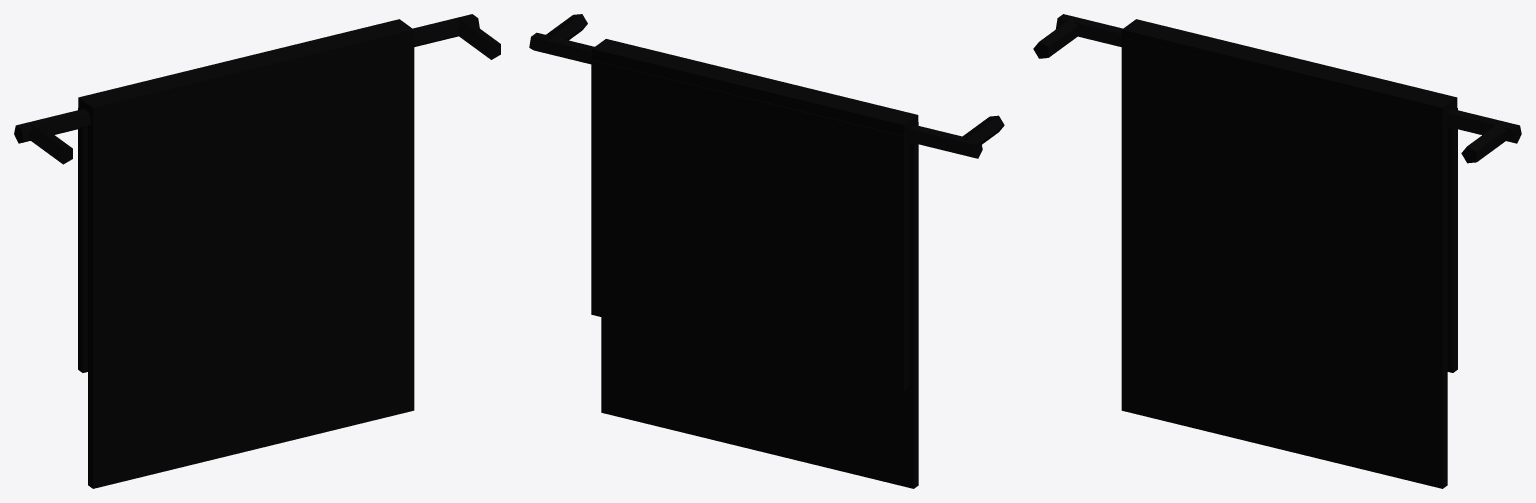
Rendered from SM_towel_rail.fbx.
The picture shows the model from 3 angles, left to right: view 1: azimuth 30°, elevation 25°; view 2: azimuth 150°, elevation 25°; view 3: azimuth 330°, elevation 25°; orthographic projection. The views are drawn at different scales.
Parts seen in each view (by area): view 1: towel_rail; view 2: towel_rail; view 3: towel_rail.
Boxes of the visible parts, x1,y1,x2,y2 form: towel_rail: (14, 14, 500, 488); towel_rail: (529, 14, 1004, 488); towel_rail: (1033, 14, 1521, 488).
Size of the model in its own units: 0.64 by 0.51 by 0.101.
